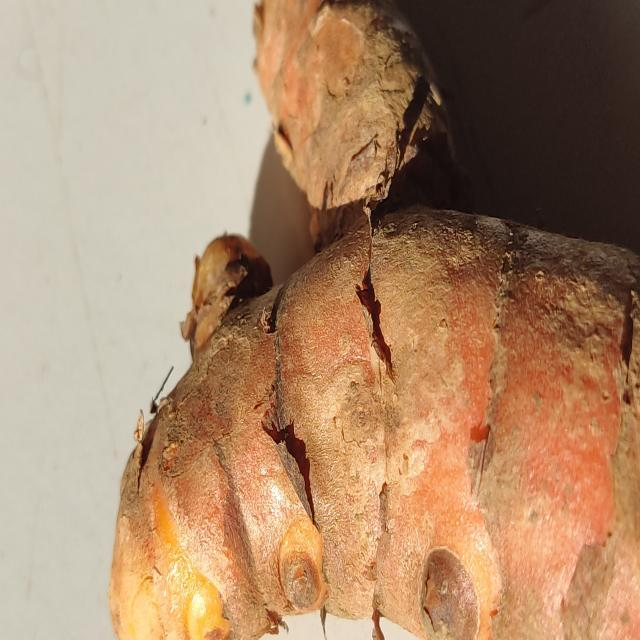ginger: (118, 13, 640, 640)
